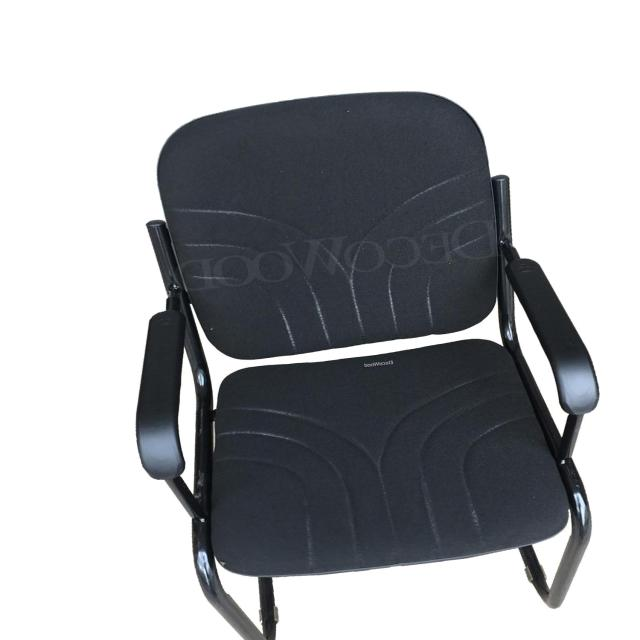Chair: (128, 86, 602, 640)
